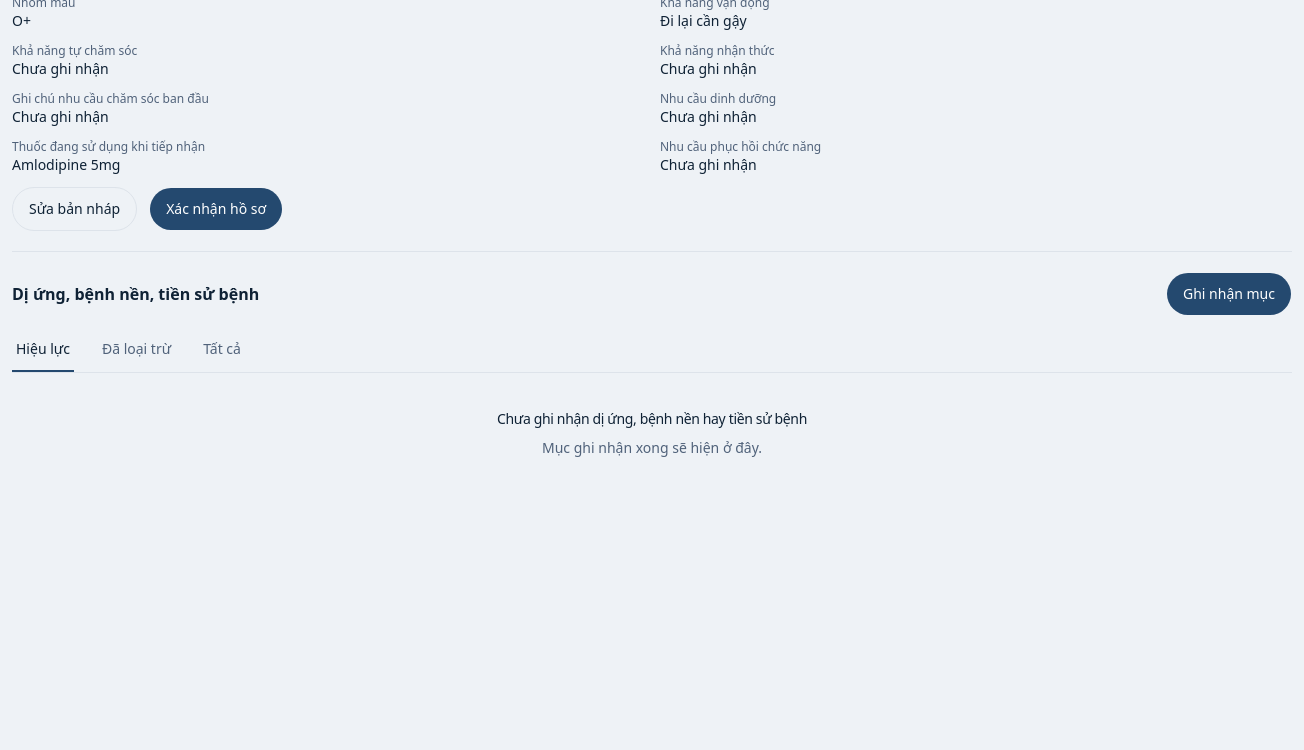
Test: HealthTab, hồ sơ sức khỏe ban đầu › FR_017_suaBanNhap_guiIfMatchTheoETag
Click the button "Sửa bản nháp".
click(75, 209)  # box [12,187,137,231]
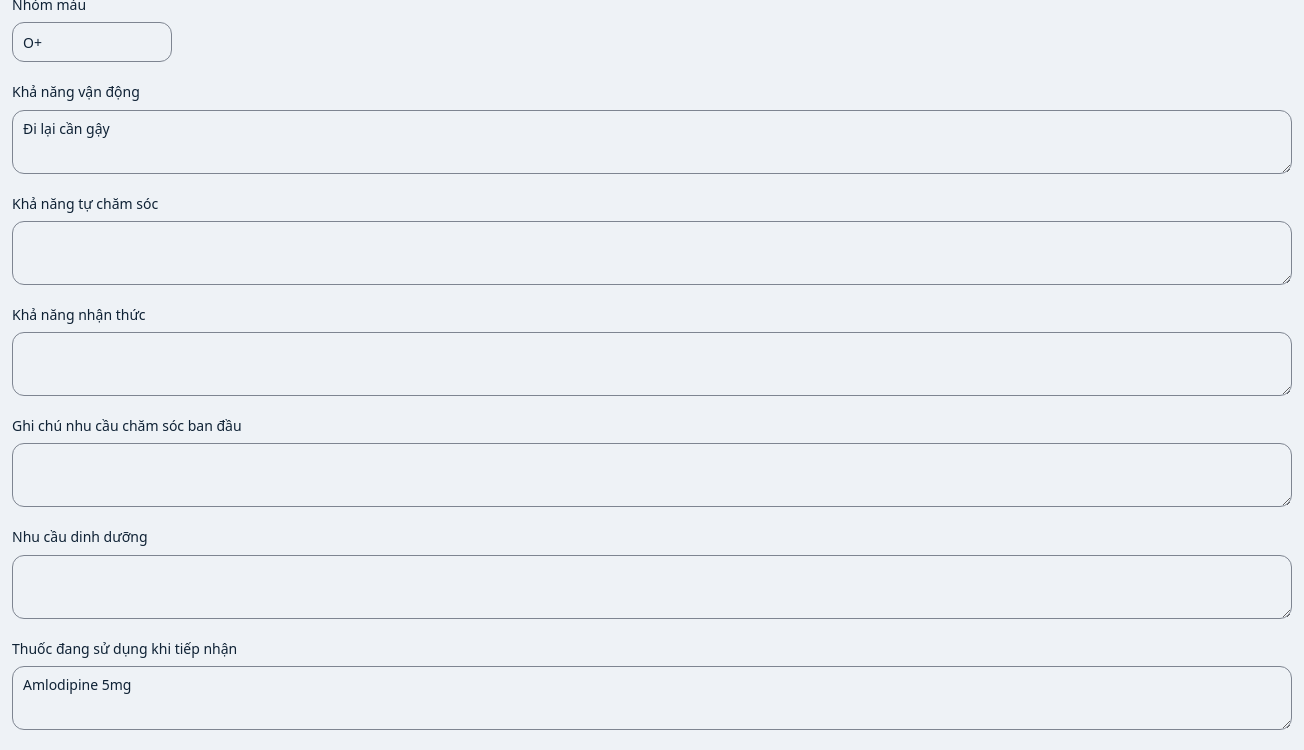
Replace the text in the text box labelled "Thuốc đang sử dụng khi tiếp nhận" with "Amlodipine 10mg" at (652, 698), box [12,666,1292,730]
(page scrolled)
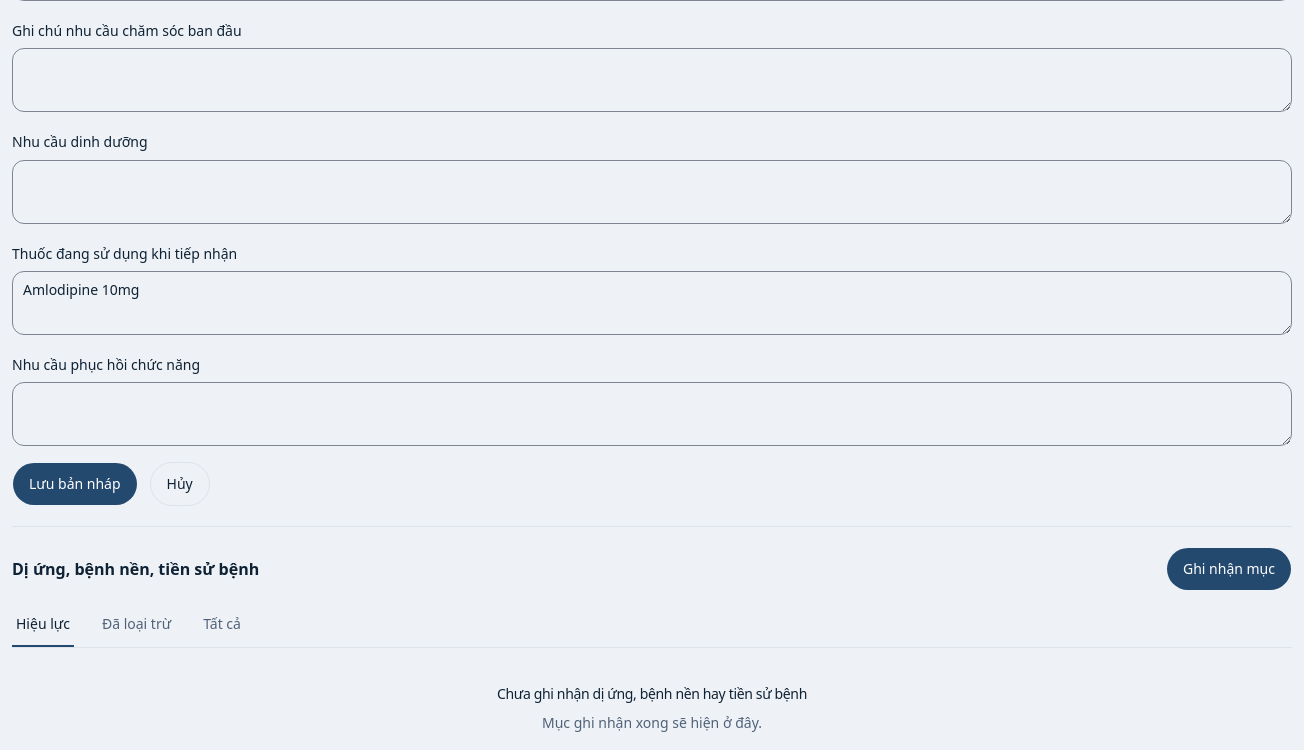
Click the button "Lưu bản nháp".
click(75, 484)  # box [12,462,138,506]
(page scrolled)
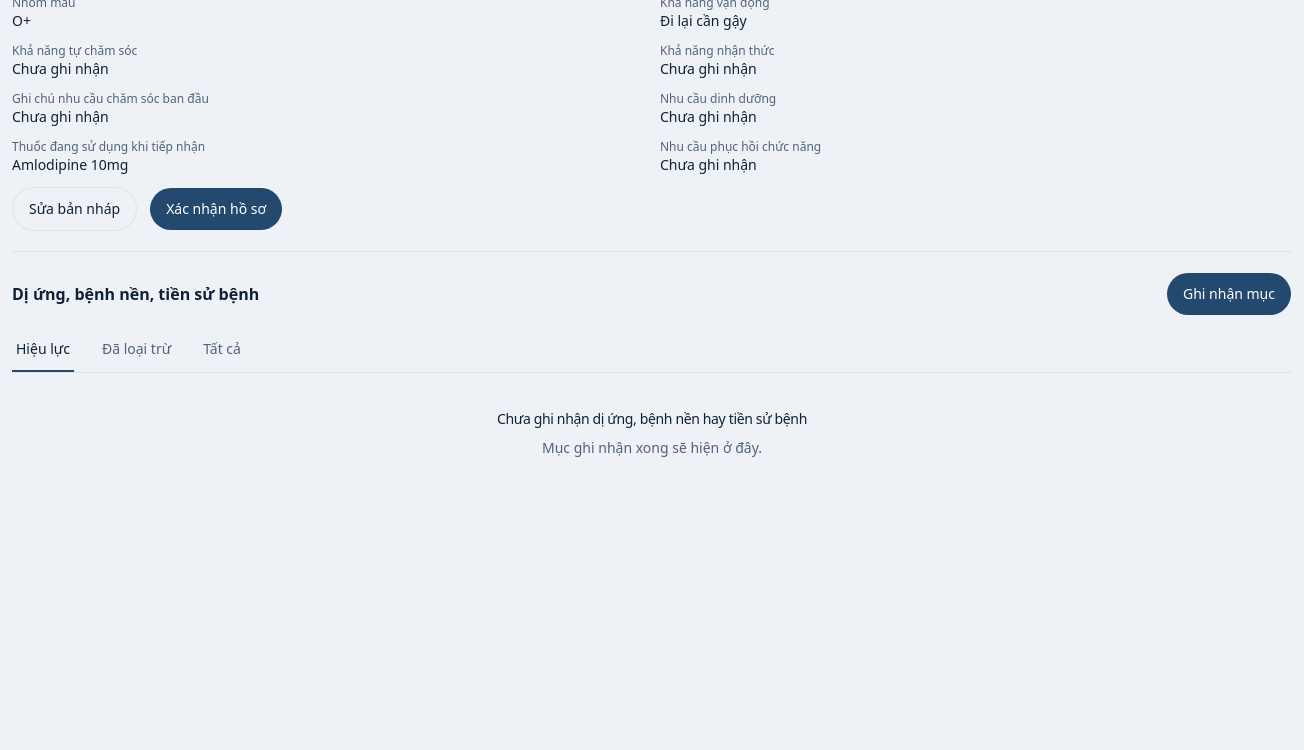
Now the text "Amlodipine 10mg" is shown, box [12,155,128,174]
